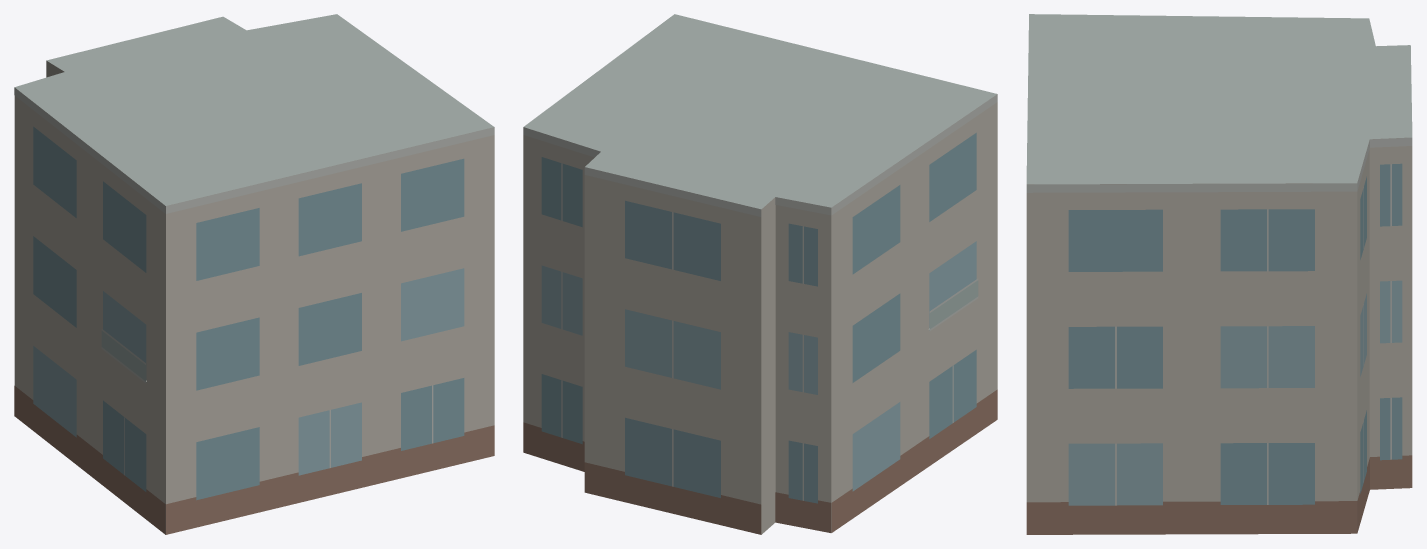
The model's file is survey-upis-32504203.glb.
3 renders of one model, left to right at view 1: azimuth 30°, elevation 25°; view 2: azimuth 150°, elevation 25°; view 3: azimuth 270°, elevation 25°, orthographic. The views are drawn at different scales.
Parts seen in each view (by area): view 1: survey-upis-32504203.tmp; view 2: survey-upis-32504203.tmp; view 3: survey-upis-32504203.tmp.
Part boxes in pixels (bbox=[...]): survey-upis-32504203.tmp: bbox=[14, 14, 494, 534]; survey-upis-32504203.tmp: bbox=[523, 14, 997, 534]; survey-upis-32504203.tmp: bbox=[1026, 14, 1412, 534].
Size of the model in its own units: 10.54 by 10.1 by 10.09.
